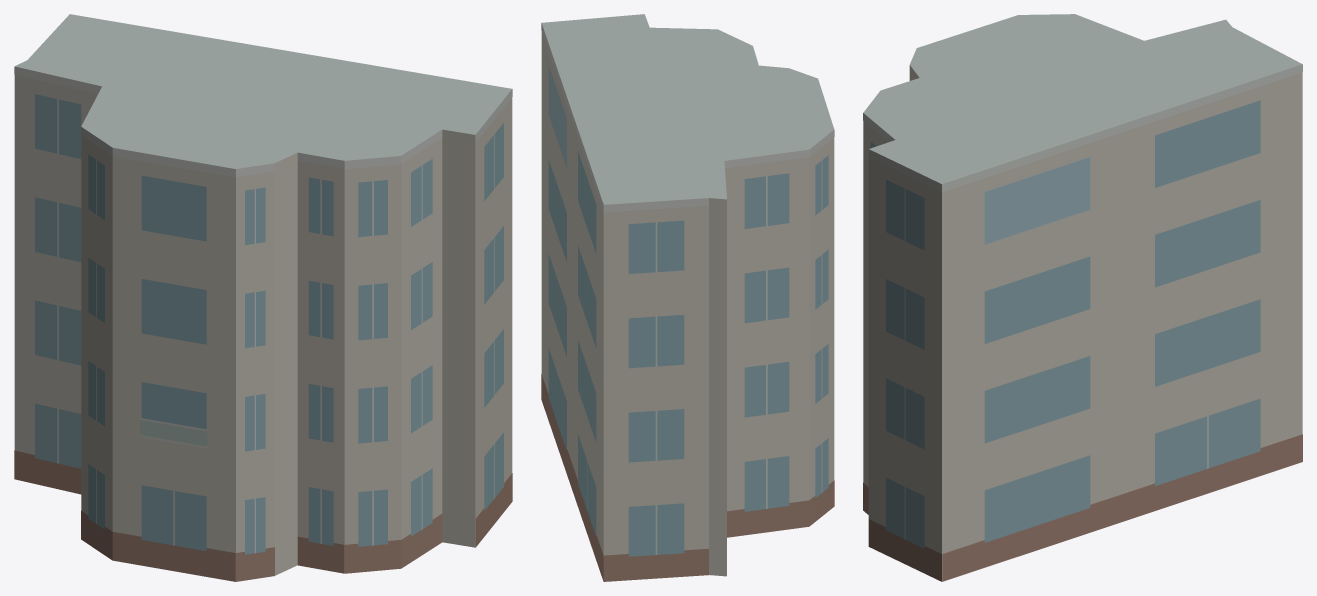
The model's file is survey-upis-32905192.glb.
The picture shows the model from 3 angles, left to right: view 1: azimuth 30°, elevation 25°; view 2: azimuth 150°, elevation 25°; view 3: azimuth 270°, elevation 25°; orthographic projection. The views are drawn at different scales.
Visible parts, largest first — view 1: survey-upis-32905192.tmp; view 2: survey-upis-32905192.tmp; view 3: survey-upis-32905192.tmp.
Part boxes in pixels (left/top/right/bottom): survey-upis-32905192.tmp: left=14, top=14, right=512, bottom=581; survey-upis-32905192.tmp: left=541, top=14, right=834, bottom=581; survey-upis-32905192.tmp: left=863, top=14, right=1302, bottom=581.
Size of the model in its own units: 11.21 by 12.2 by 12.23.
